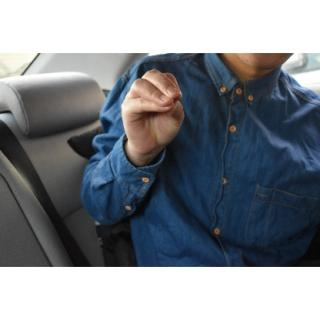HA: (120, 58, 184, 158)
